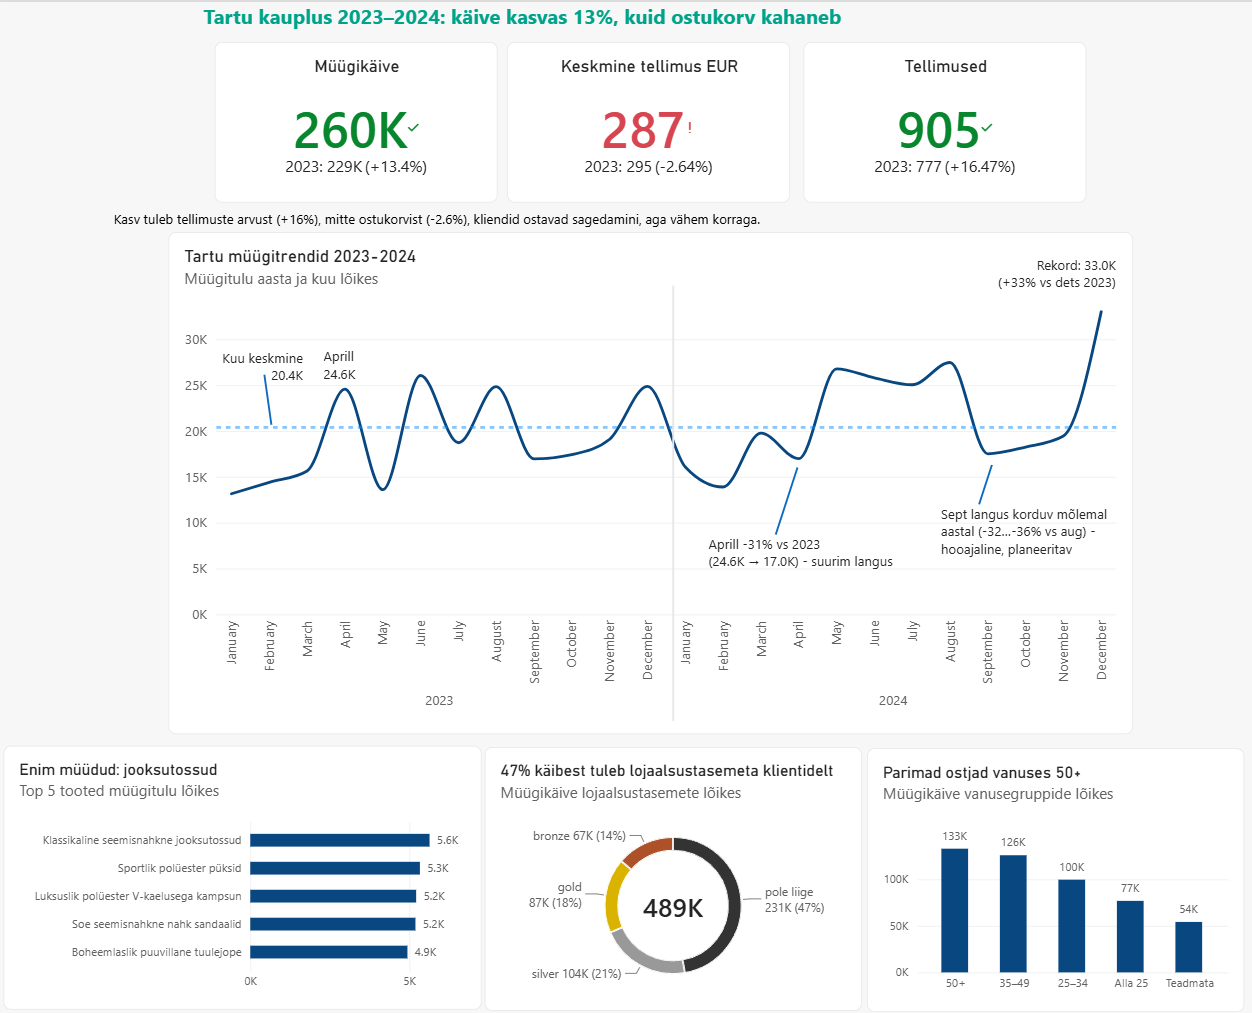

The dashboard page shown, as its layout file describes it:
{"tool":"powerbi","page":{"name":"w5_GT","canvas":[1920,1080],"ordinal":0},"visuals":[{"type":"lineChart","title":"UrbanStyle müügitrendid 2023-2024","fields":{"Category":["public sales.sale_date.Variation.Date Hierarchy.Year","public sales.sale_date.Variation.Date Hierarchy.Month"],"Y":["Sum(public sales.total_price)"]},"box":[8,220.6,924.9,528.9],"z":0},{"type":"cardVisual","title":"Müügikäive","fields":{"Data":["Sum(public sales.total_price)"]},"box":[959.5,0,300.3,211.3],"z":1000},{"type":"kpi","title":"Kliendid","fields":{"Goal":["public customers.Customers 2023"],"Indicator":["public customers.Customers 2024"],"TrendLine":["public sales.sale_date"]},"box":[318.9,0,300.3,211.3],"z":2000},{"type":"kpi","title":"Tellimused","fields":{"Goal":["public customers.Orders 2023"],"Indicator":["public customers.Orders 2024"],"TrendLine":["public sales.sale_date"]},"box":[631.7,0,300.3,211.3],"z":3000},{"type":"lineChart","title":"UrbanStyle müügitrendid 2023-2026","fields":{"Category":["public sales.sale_date.Variation.Date Hierarchy.Year","public sales.sale_date.Variation.Date Hierarchy.Month"],"Y":["Sum(public sales.total_price)"]},"box":[959.5,220.6,948.8,528.9],"z":4000},{"type":"kpi","title":"Müügikäive","fields":{"Goal":["public customers.Revenue 2023"],"Indicator":["public customers.Revenue 2024"],"TrendLine":["public sales.sale_date"]},"box":[7.4,0,300.3,211.3],"z":5000},{"type":"cardVisual","fields":{"Data":["CountNonNull(public customers.customer_id)"]},"box":[1283.7,0,300.3,211.3],"z":6000},{"type":"cardVisual","fields":{"Data":["CountNonNull(public sales.sale_id)"]},"box":[1608,0,300.3,211.3],"z":7000},{"type":"shape","box":[1213.3,277.7,191.4,458.5],"z":8000},{"type":"shape","box":[396,277.7,191.4,458.5],"z":9000},{"type":"shape","box":[1561.5,277.7,190,458.5],"z":10000},{"type":"shape","box":[1639.9,277.7,191.4,458.5],"z":11000},{"type":"ChicletSlicer1448559807354","fields":{"Category":["public sales.sale_date.Variation.Date Hierarchy.Quarter"]},"box":[6.6,839.9,462.5,85.1],"z":12000},{"type":"ChicletSlicer1448559807354","fields":{"Category":["public sales.sale_date.Variation.Date Hierarchy.Year"]},"box":[8,761.5,462.5,89],"z":13000},{"type":"ChicletSlicer1448559807354","fields":{"Category":["public sales.sale_date.Variation.Date Hierarchy.Month"]},"box":[8,915.6,461.1,160.8],"z":14000},{"type":"ChicletSlicer1448559807354","fields":{"Category":["public products.category"]},"box":[491.7,850.5,439.9,229.9],"z":15000},{"type":"ChicletSlicer1448559807354","fields":{"Category":["public sales.Müügikoht"]},"box":[491.7,764.1,439.9,86.4],"z":16000}]}

Visuals, with their boxes on the page's 1920x1080 design canvas (x1, y1, x2, y2). These are canvas units, not pixel positions in the 1252x1013 screenshot, which may show the page scaled, cropped or inside an application window:
"UrbanStyle müügitrendid 2023-2024" lineChart: <bbox>8, 221, 933, 750</bbox>
"Müügikäive" cardVisual: <bbox>960, 0, 1260, 211</bbox>
"Kliendid" kpi: <bbox>319, 0, 619, 211</bbox>
"Tellimused" kpi: <bbox>632, 0, 932, 211</bbox>
"UrbanStyle müügitrendid 2023-2026" lineChart: <bbox>960, 221, 1908, 750</bbox>
"Müügikäive" kpi: <bbox>7, 0, 308, 211</bbox>
cardVisual - CountNonNull(public customers.customer_id): <bbox>1284, 0, 1584, 211</bbox>
cardVisual - CountNonNull(public sales.sale_id): <bbox>1608, 0, 1908, 211</bbox>
shape: <bbox>1213, 278, 1405, 736</bbox>
shape: <bbox>396, 278, 587, 736</bbox>
shape: <bbox>1562, 278, 1752, 736</bbox>
shape: <bbox>1640, 278, 1831, 736</bbox>
ChicletSlicer1448559807354 - public sales.sale_date.Variation.Date Hierarchy.Quarter: <bbox>7, 840, 469, 925</bbox>
ChicletSlicer1448559807354 - public sales.sale_date.Variation.Date Hierarchy.Year: <bbox>8, 762, 470, 850</bbox>
ChicletSlicer1448559807354 - public sales.sale_date.Variation.Date Hierarchy.Month: <bbox>8, 916, 469, 1076</bbox>
ChicletSlicer1448559807354 - public products.category: <bbox>492, 850, 932, 1080</bbox>
ChicletSlicer1448559807354 - public sales.Müügikoht: <bbox>492, 764, 932, 850</bbox>
